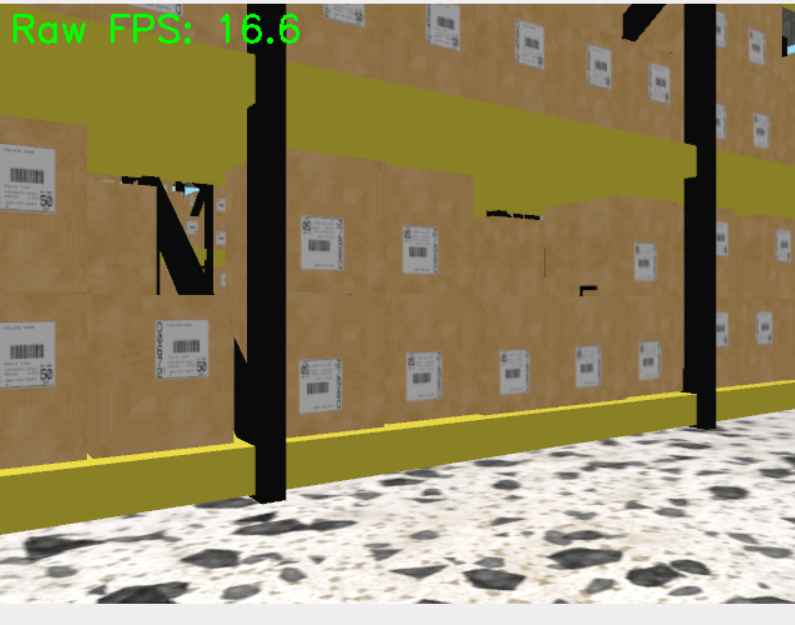barcode: (153, 318, 209, 380), (299, 214, 345, 273), (297, 357, 344, 413), (401, 223, 439, 276), (405, 351, 442, 401), (514, 18, 544, 69), (497, 348, 530, 394), (586, 43, 613, 89), (575, 345, 601, 386), (632, 241, 657, 283), (647, 63, 672, 104), (638, 341, 662, 382), (746, 29, 766, 67), (774, 227, 792, 264), (753, 111, 770, 148), (756, 310, 774, 344)
